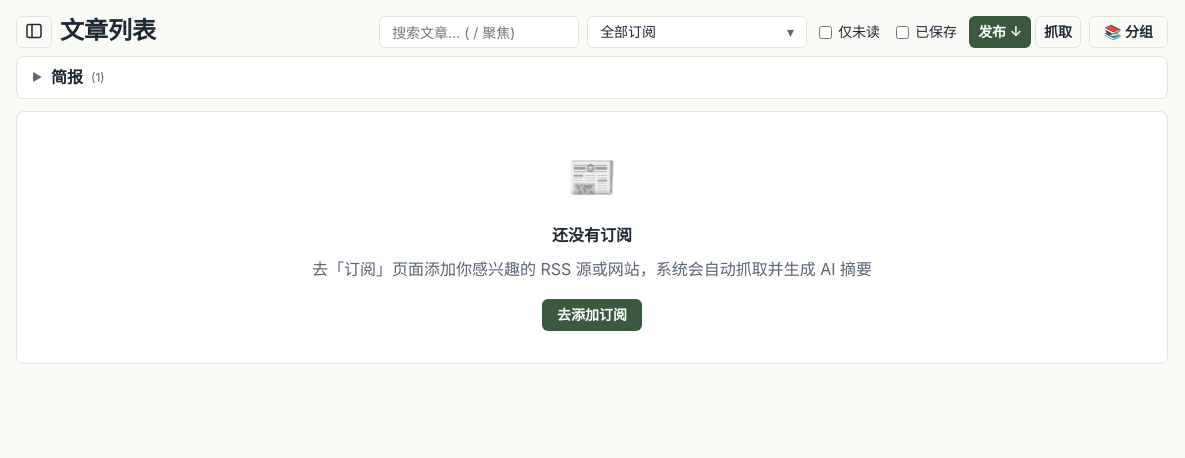
ArticleListPage automatic pagination › replaces recommendations with a collapsed daily briefing panel
Expected: the text "Daily briefing article" is not shown
Click the button "▶ 简报 (1)": point(67, 77) [17,57,1167,98]
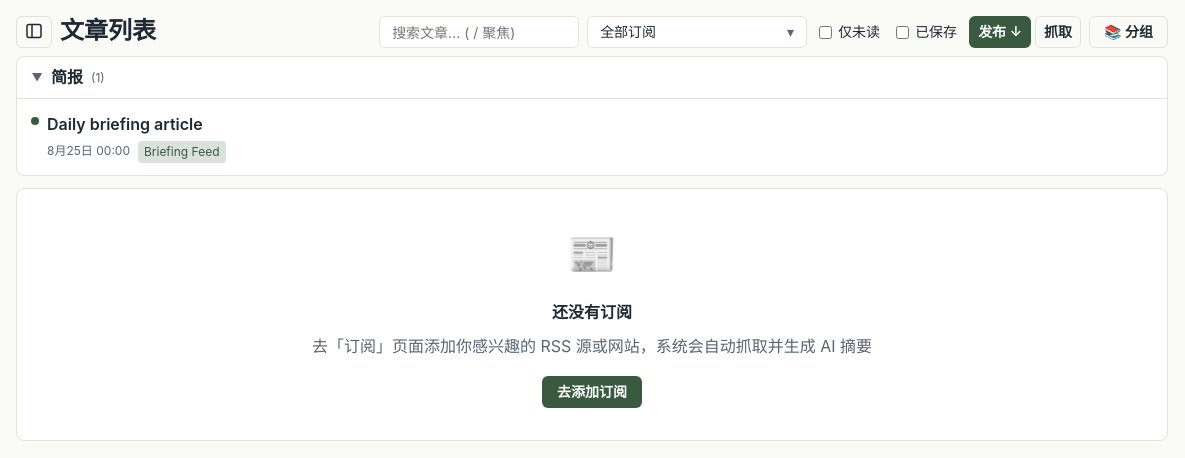
Now the link "Daily briefing article 8月25日 00:00 Briefing Feed" is shown, box [17,98,1167,175]
